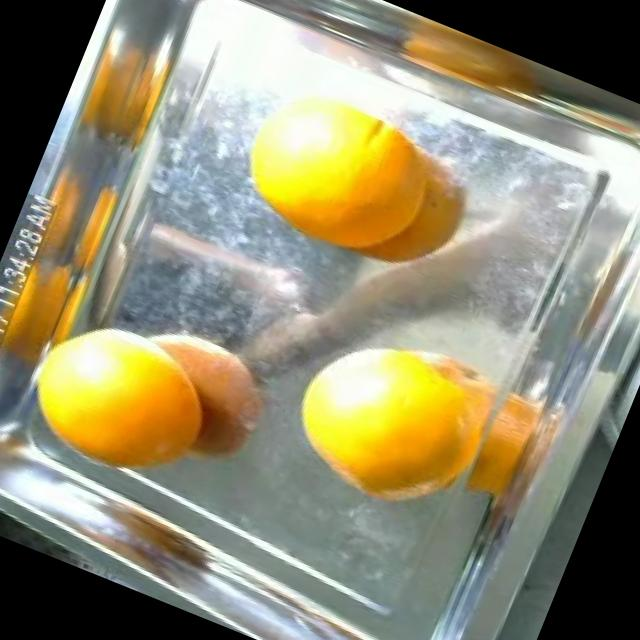Fruit: (258, 297, 518, 543), (0, 281, 245, 503), (65, 19, 189, 168)
